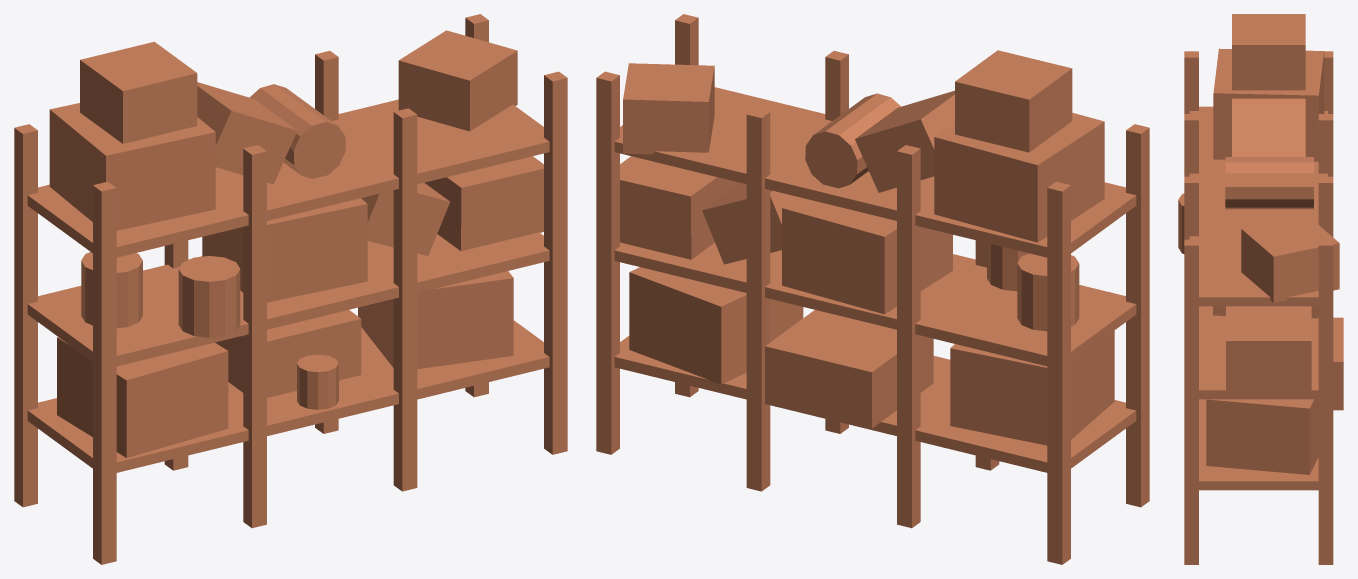
Rendered from StorehouseShelfFullUnity2.dae.
The picture shows the model from 3 angles, left to right: view 1: azimuth 30°, elevation 25°; view 2: azimuth 150°, elevation 25°; view 3: azimuth 270°, elevation 25°; orthographic projection. The views are drawn at different scales.
Parts seen in each view (by area): view 1: Cube_002; view 2: Cube_002; view 3: Cube_002.
Part boxes in pixels (x1,y1,x2,y2): Cube_002: (14,14,567,564); Cube_002: (596,14,1149,564); Cube_002: (1178,14,1343,564).
Bounding box in the file's own units: 5.84 × 2.08 × 5.22.
